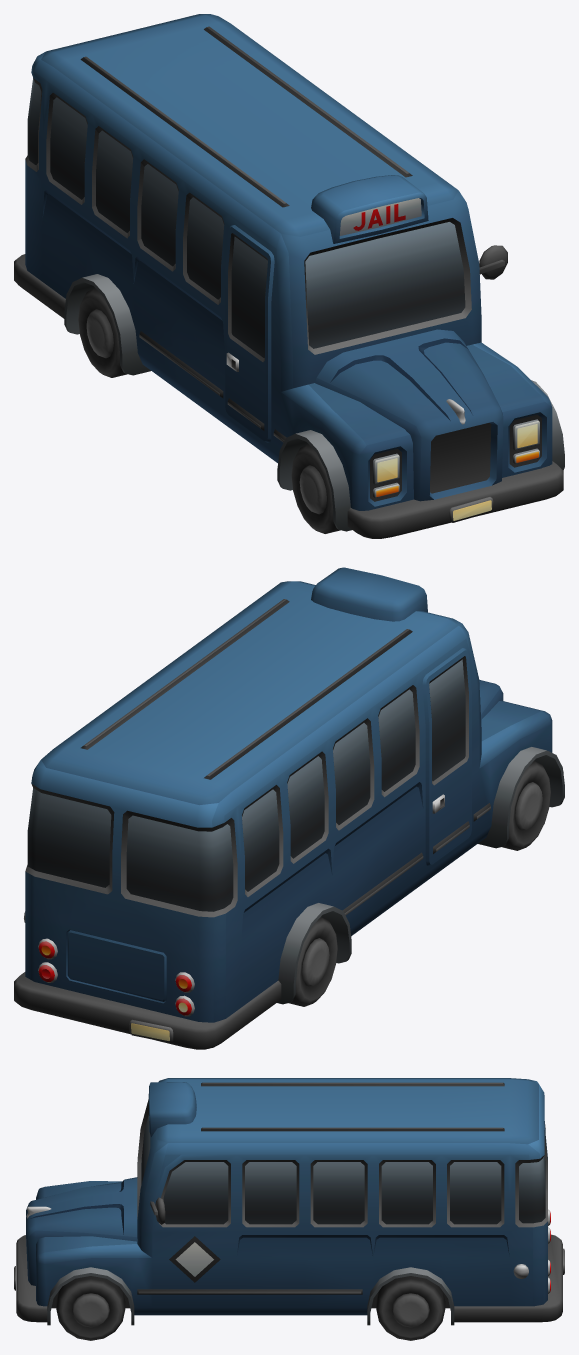
The model's file is Car_15D.fbx.
3 renders of one model, top to bottom at view 1: azimuth 30°, elevation 25°; view 2: azimuth 150°, elevation 25°; view 3: azimuth 270°, elevation 25°, orthographic. The views are drawn at different scales.
Parts seen in each view (by area): view 1: Car_15D, Wheel_15D_F.R, Wheel_15D_R.R; view 2: Car_15D, Wheel_15D_R.R, Wheel_15D_F.R; view 3: Car_15D, Wheel_15D_R.L, Wheel_15D_F.L.
Part boxes in pixels (bbox=[...]): Car_15D: bbox=[14, 14, 564, 538]; Wheel_15D_F.R: bbox=[291, 444, 340, 533]; Wheel_15D_R.R: bbox=[78, 288, 127, 377]; Car_15D: bbox=[14, 567, 564, 1049]; Wheel_15D_R.R: bbox=[288, 917, 337, 1006]; Wheel_15D_F.R: bbox=[502, 761, 550, 850]; Car_15D: bbox=[14, 1078, 564, 1325]; Wheel_15D_R.L: bbox=[376, 1276, 445, 1340]; Wheel_15D_F.L: bbox=[56, 1276, 125, 1340].
Bounding box in the file's own units: 331 × 351 × 845.
